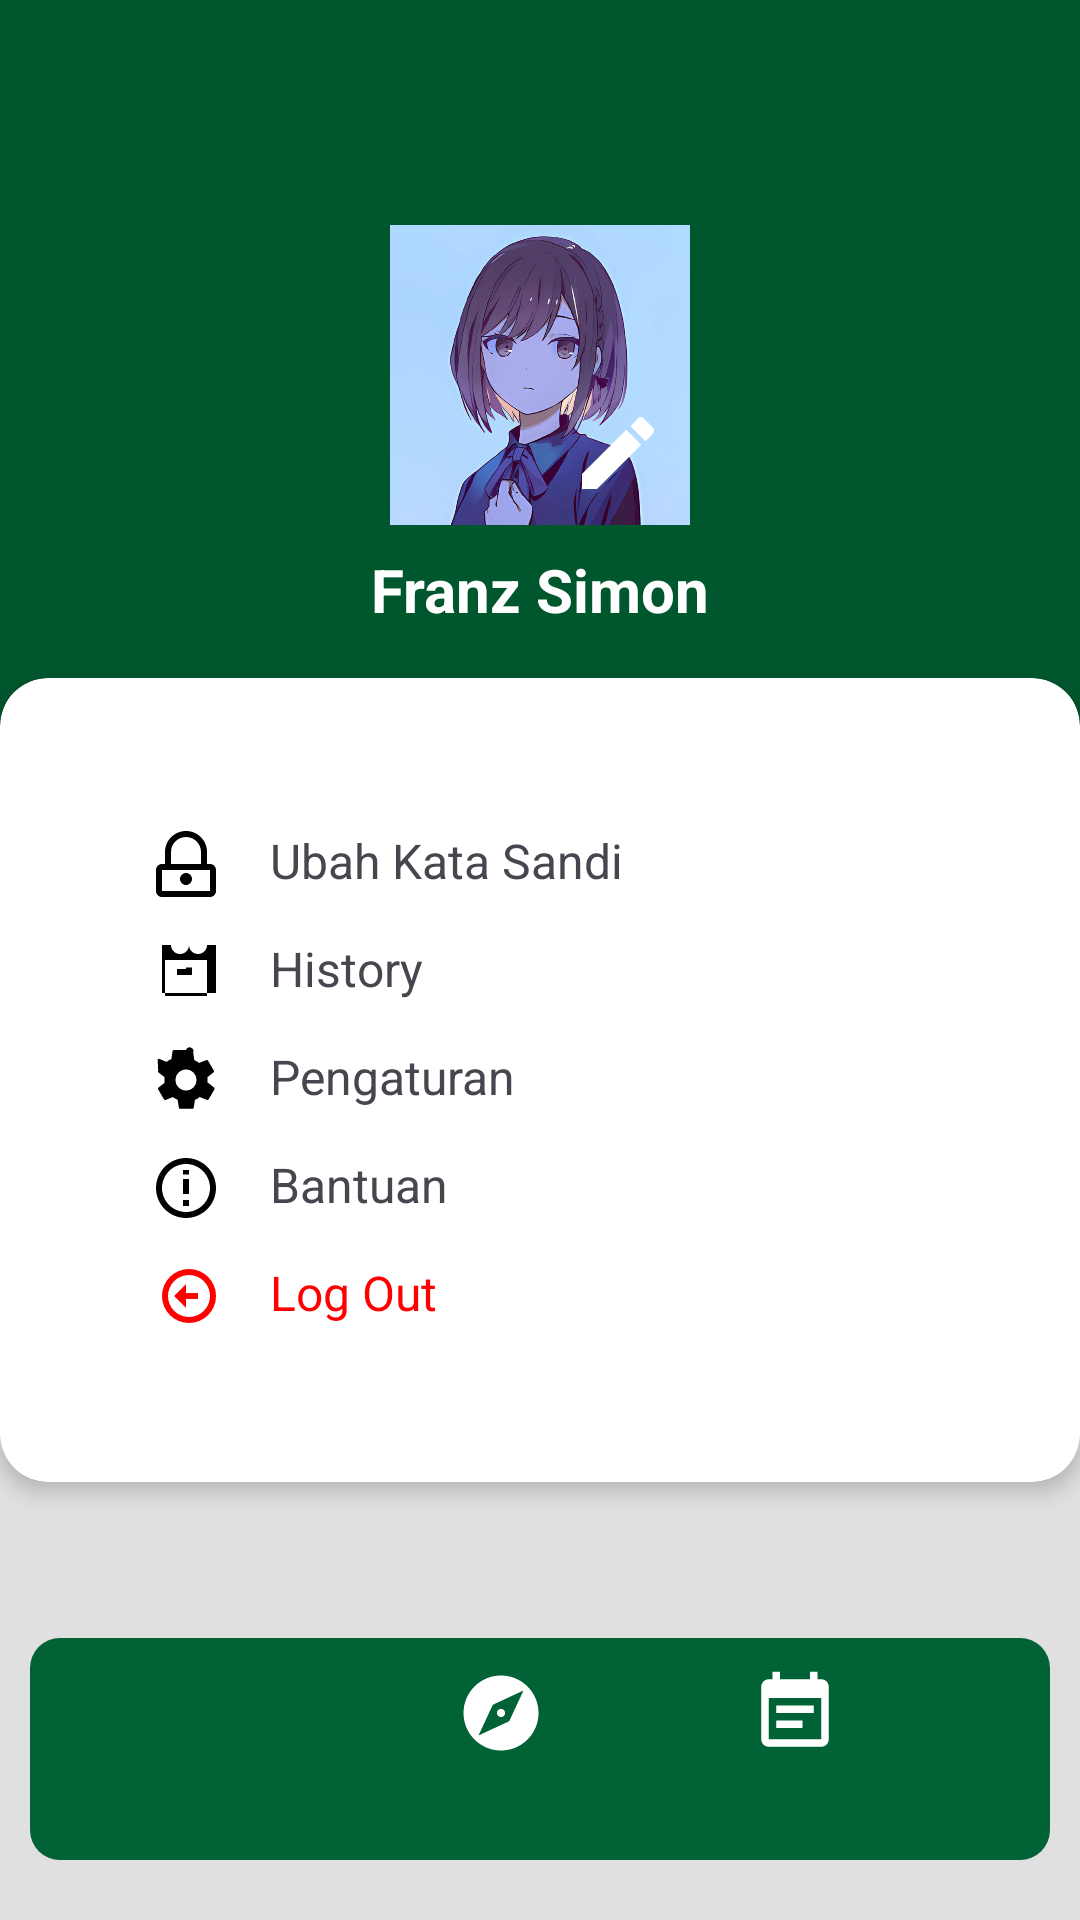

Point at icon controls on the screen. Image size 1080x1920, points as (x=x, y=y).
help: (x=186, y=1188)
password: (x=186, y=864)
settings: (x=186, y=1078)
